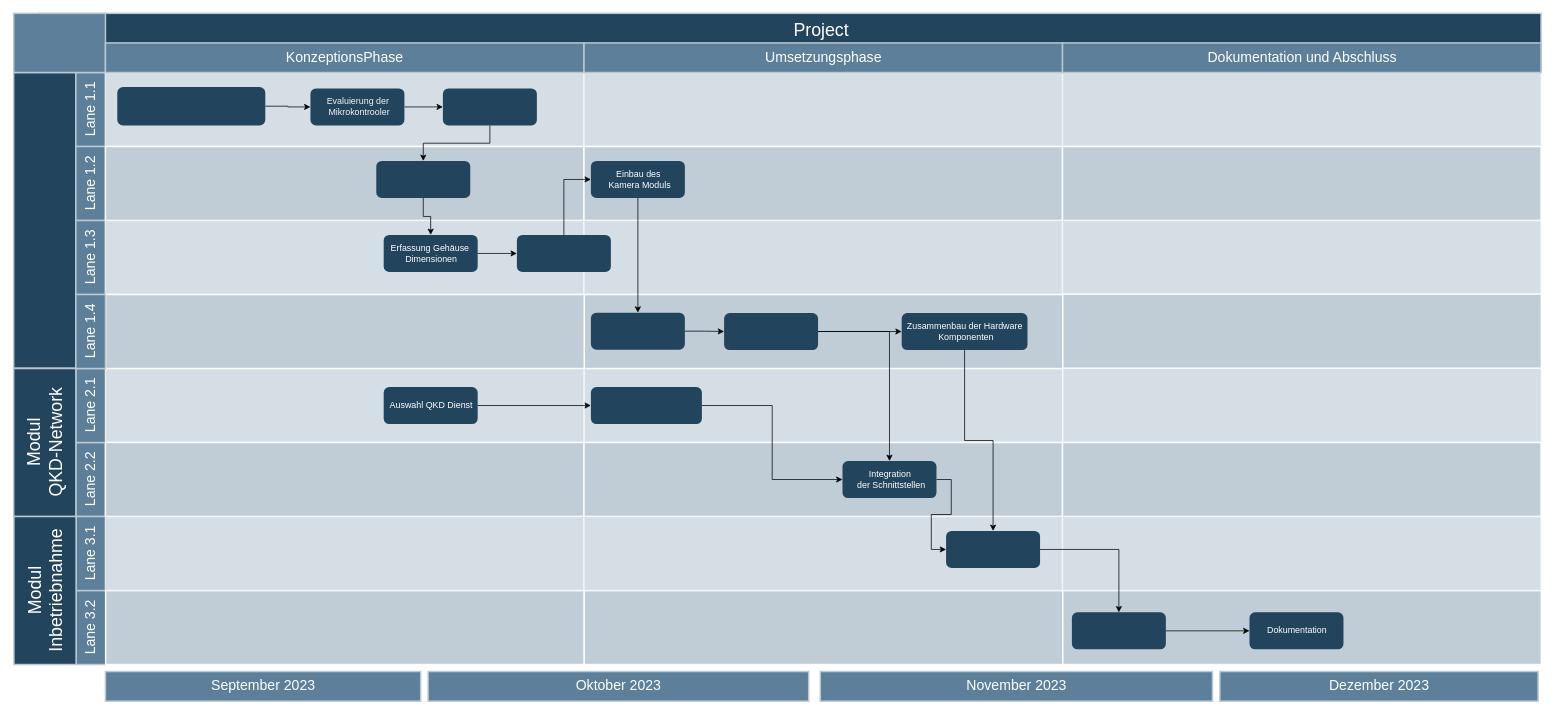
Some shapes in this 1555 by 715 pixel diagram are drawn without their labels. Here are the shapes that lost their labels. From the top down, the centre of each, then its label:
At (59,42): "v 1.0".
At (191,106): "Erfassung der Anforderungen Hard- und Software".
At (489,106): "Auswahl des Mikrokontroller".
At (423,179): "Auswahl des Kameramoduls".
At (44,220): "Modul QKD-Device".
At (563,253): "Auswahl Gehäuse".
At (637,330): "Entwicklung Software QKD-Device".
At (771,331): "Installation Software KD-Device".
At (646,405): "Isntallation QKN- Software in Testumgebung".
At (993,549): "Inbetriebnahme".
At (1119,630): "Test".
